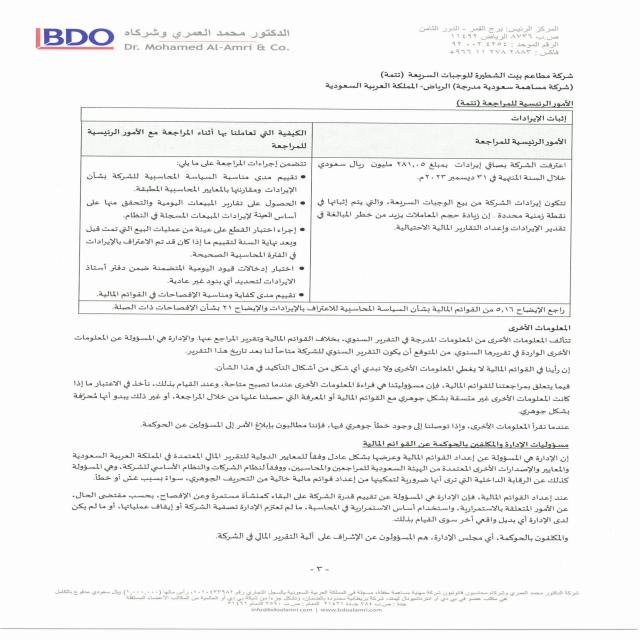auditor_report: (451, 100, 577, 108)
